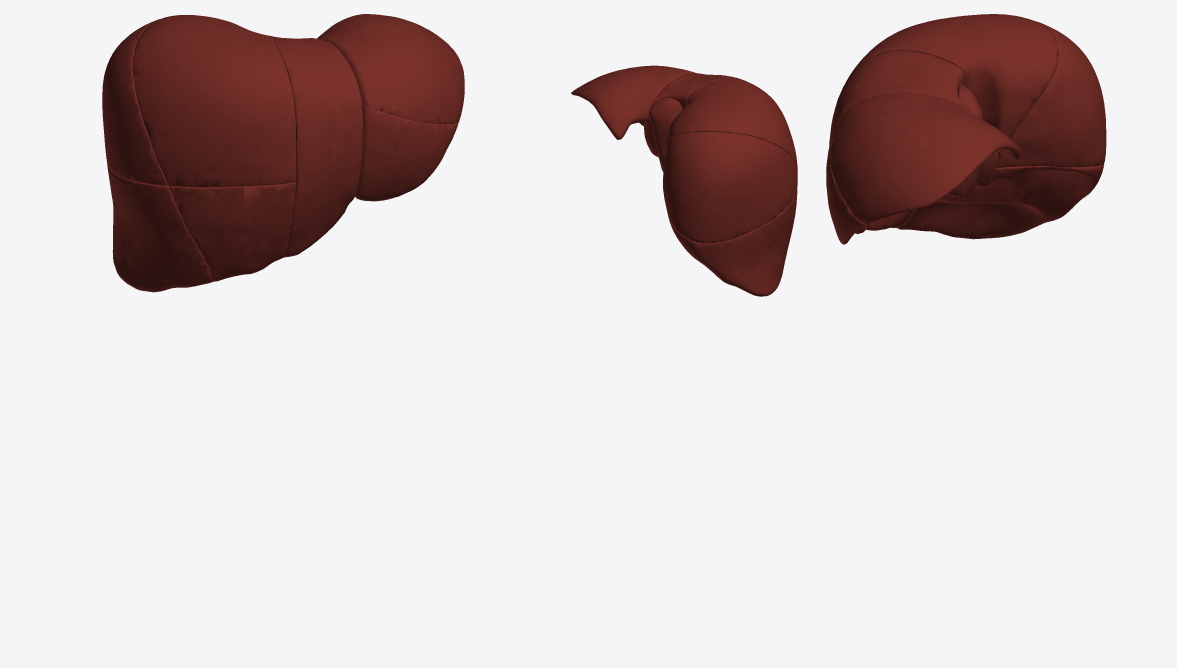
The model's file is jigar.glb.
The picture shows the model from 3 angles, left to right: view 1: azimuth 30°, elevation 25°; view 2: azimuth 150°, elevation 25°; view 3: azimuth 270°, elevation 25°; orthographic projection. The views are drawn at different scales.
Visible parts, largest first — view 1: jigar; view 2: jigar; view 3: jigar.
Part boxes in pixels (box(x1,y1,x2,y2)): jigar: box(102, 14, 464, 292); jigar: box(571, 65, 797, 296); jigar: box(826, 14, 1106, 244).
Bounding box in the file's own units: 0.2441 × 0.4258 × 0.191.
